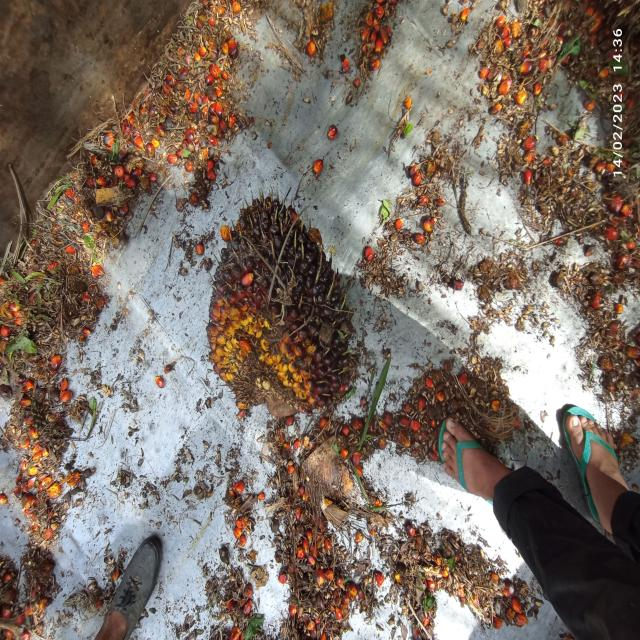fraksi 00: (185, 183, 370, 463)
